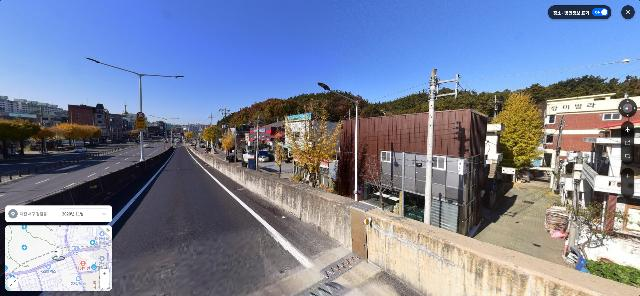ginkgo: (494, 92, 546, 182), (290, 106, 342, 189), (271, 120, 292, 179), (220, 131, 236, 160)
other: (564, 194, 612, 259), (358, 156, 395, 213), (1, 118, 40, 152), (55, 123, 102, 147), (55, 123, 82, 147), (235, 123, 250, 165), (198, 128, 220, 152), (36, 127, 55, 152), (81, 125, 102, 147)
